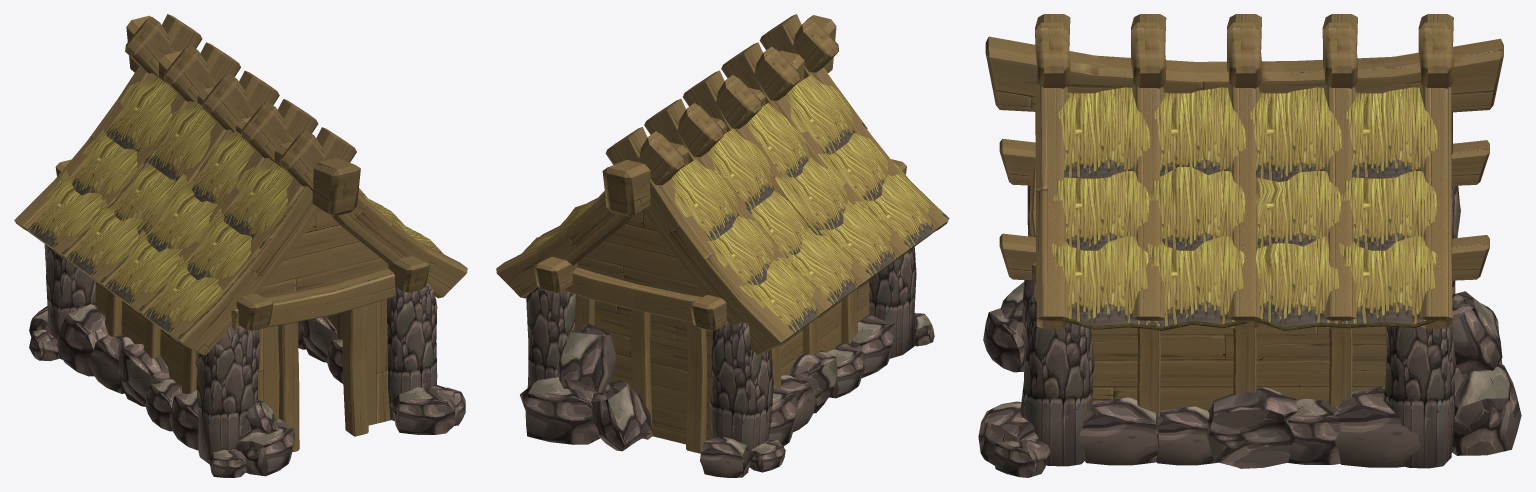
Rendered from maya2sketchfab.fbx.
3 views of the same model, side by side, from view 1: azimuth 30°, elevation 25°; view 2: azimuth 150°, elevation 25°; view 3: azimuth 270°, elevation 25° (orthographic). The views are drawn at different scales.
Parts seen in each view (by area): view 1: polySurface72; view 2: polySurface72; view 3: polySurface72.
Part boxes in pixels (left/top/right/bottom): polySurface72: left=14, top=14, right=467, bottom=477; polySurface72: left=496, top=14, right=949, bottom=477; polySurface72: left=978, top=14, right=1521, bottom=477.
Bounding box in the file's own units: 4.36 × 4.48 × 5.66.
2 materials, 2 textured.
